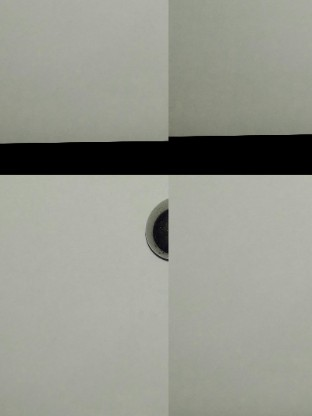ironball: (139, 193, 169, 266)
